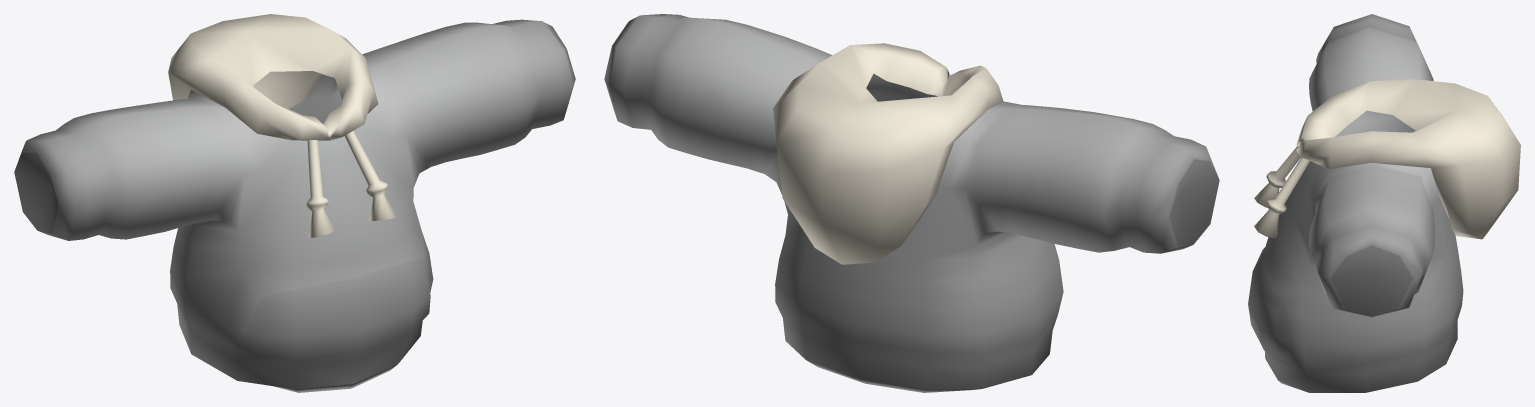
The model's file is Top_26.fbx.
The picture shows the model from 3 angles, left to right: view 1: azimuth 30°, elevation 25°; view 2: azimuth 150°, elevation 25°; view 3: azimuth 270°, elevation 25°; orthographic projection. The views are drawn at different scales.
Visible parts, largest first — view 1: Top_26; view 2: Top_26; view 3: Top_26.
Boxes of the visible parts, <box> form: Top_26: <box>14,14,575,392</box>; Top_26: <box>604,14,1219,392</box>; Top_26: <box>1248,14,1520,392</box>.
Size of the model in its own units: 99.63 by 52.57 by 50.2.
